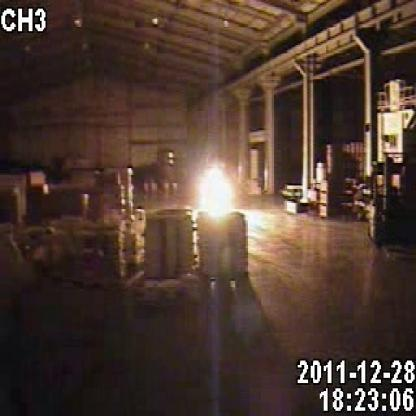fire: (182, 155, 257, 229)
